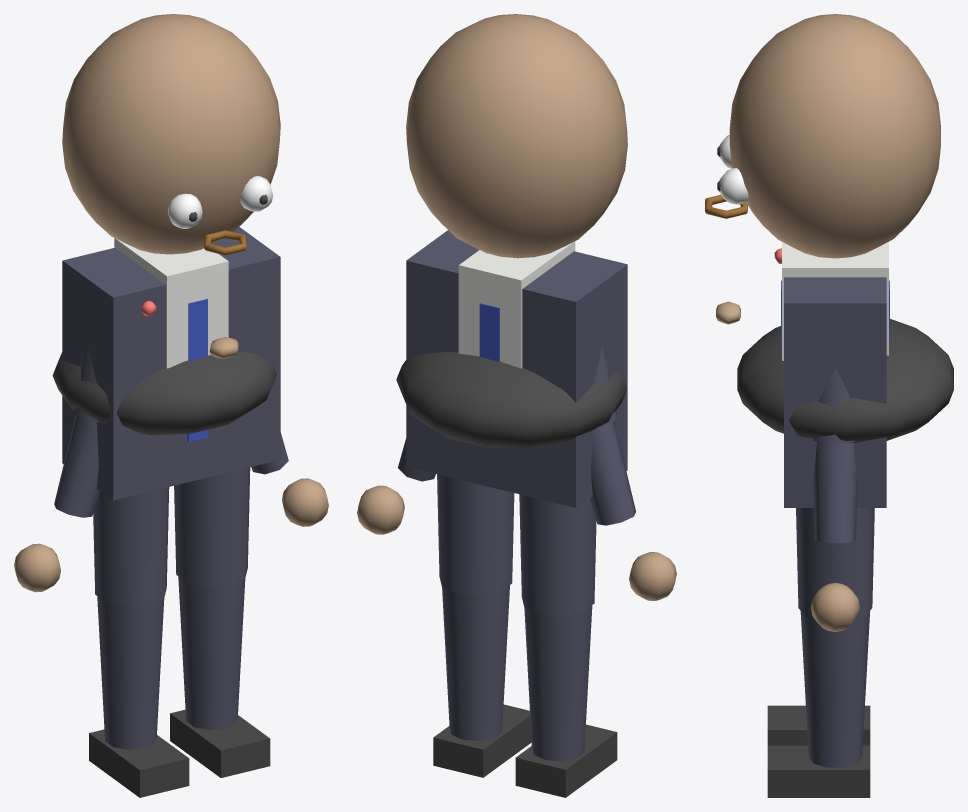
The model's file is obama.glb.
3 views of the same model, side by side, from view 1: azimuth 30°, elevation 25°; view 2: azimuth 150°, elevation 25°; view 3: azimuth 270°, elevation 25° (orthographic).
Parts seen in each view (by area): view 1: head, torso, hair, shin--1, shin-1, thigh--1, thigh-1, shirt, shoe--1, shoe-1, fore-arm--1, hand-1 (+5 smaller); view 2: head, torso, hair, shin--1, shin-1, thigh--1, thigh-1, shirt, shoe--1, shoe-1, fore-arm--1, hand-1 (+2 smaller); view 3: head, torso, hair, shin-1, thigh-1, shoe-1, fore-arm-1, shirt, shoe--1, hand-1, upper-arm-1, eye-white-1 (+2 smaller).
Part boxes in pixels (box(x1,y1,x2,y2)): head: box(62, 14, 280, 254); torso: box(62, 226, 280, 500); hair: box(52, 352, 276, 435); shin--1: box(97, 596, 164, 749); shin-1: box(178, 576, 245, 729); thigh--1: box(93, 487, 169, 606); thigh-1: box(174, 467, 250, 586); shirt: box(114, 238, 228, 368); shoe--1: box(89, 729, 189, 797); shoe-1: box(170, 709, 270, 777); fore-arm--1: box(54, 415, 99, 517); hand-1: box(282, 478, 328, 526); head: box(406, 14, 627, 258); torso: box(406, 230, 627, 507); hair: box(396, 351, 627, 449); shin--1: box(524, 605, 592, 761); shin-1: box(442, 585, 509, 741); thigh--1: box(519, 494, 596, 615); thigh-1: box(437, 474, 514, 595); shirt: box(458, 241, 575, 368); shoe--1: box(515, 724, 617, 797); shoe-1: box(433, 704, 531, 777); fore-arm--1: box(589, 421, 635, 525); hand-1: box(357, 485, 404, 534); head: box(729, 14, 940, 258); torso: box(784, 277, 886, 507); hair: box(737, 319, 953, 442); shin-1: box(800, 611, 869, 767); thigh-1: box(796, 508, 874, 619); shoe-1: box(767, 745, 870, 797); fore-arm-1: box(813, 442, 857, 543); shirt: box(782, 242, 888, 360); shoe--1: box(767, 705, 870, 745); hand-1: box(810, 582, 859, 631); upper-arm-1: box(813, 367, 854, 443); eye-white-1: box(719, 168, 748, 204).
Bounding box in the file's own units: 1.76 × 3.98 × 1.21.
